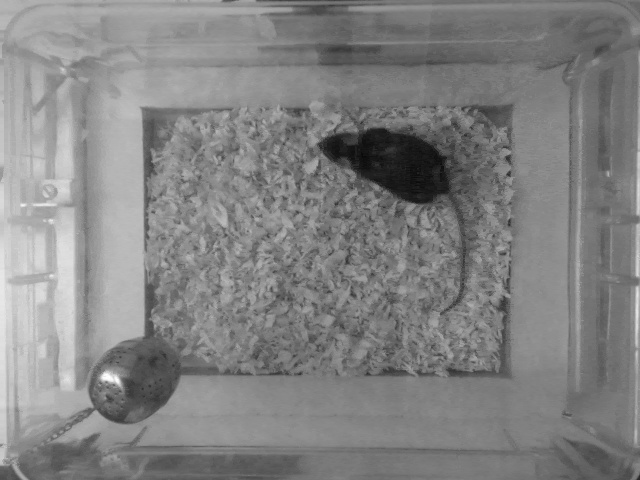mice: (309, 129, 467, 318)
